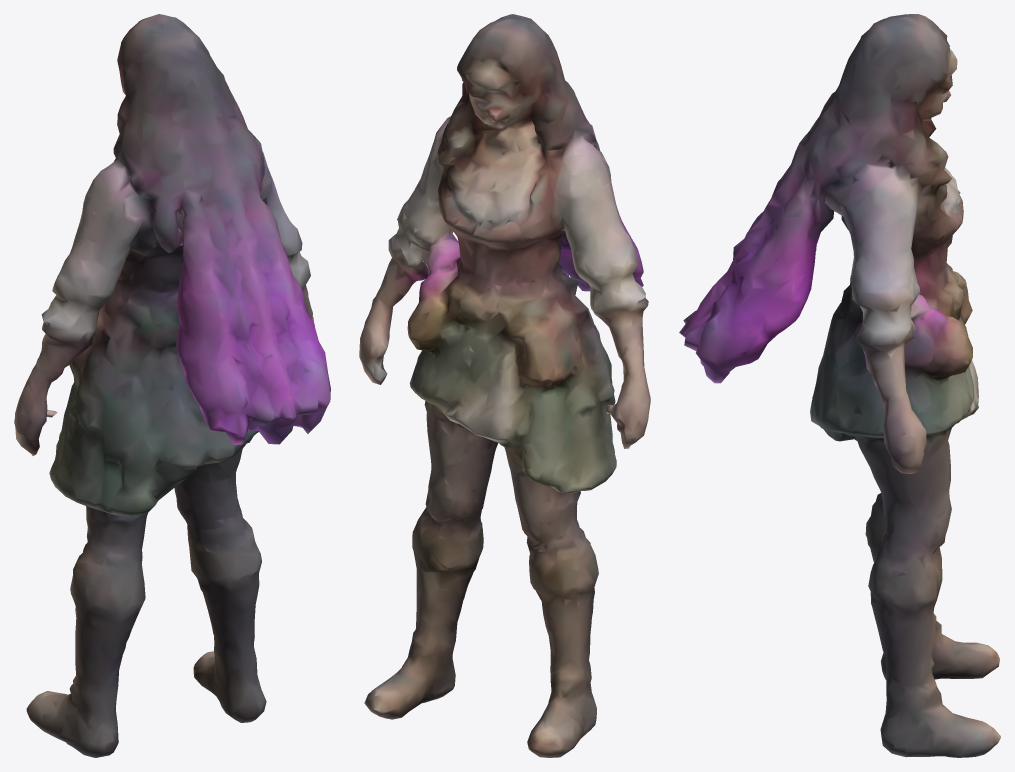
File: npc_08_moradora_jovem.glb
3 views of the same model, side by side, from view 1: azimuth 30°, elevation 25°; view 2: azimuth 150°, elevation 25°; view 3: azimuth 270°, elevation 25° (orthographic). The views are drawn at different scales.
Bounding box in the file's own units: 0.44 × 1.02 × 0.424.
